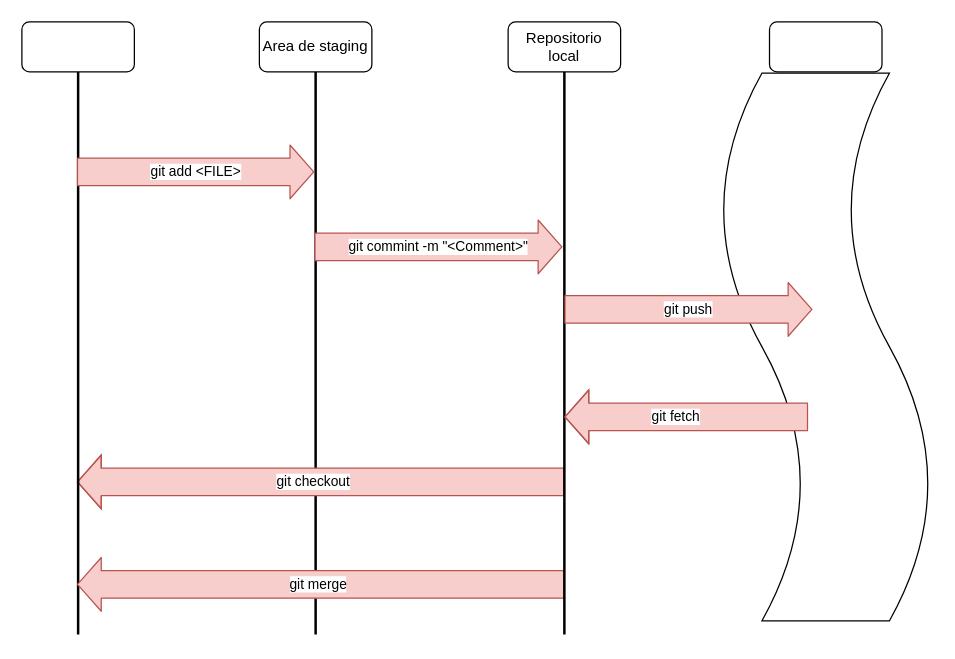
Some shapes in this 955 by 659 pixel diagram are drawn without their labels. Each missing label, with the centre of its shape:
"Directorio de trabajo" belongs at (77,46).
"Repositorio remoto" belongs at (825,46).
